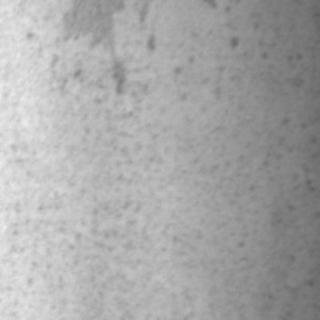pitted_surface: (3, 0, 313, 308)
